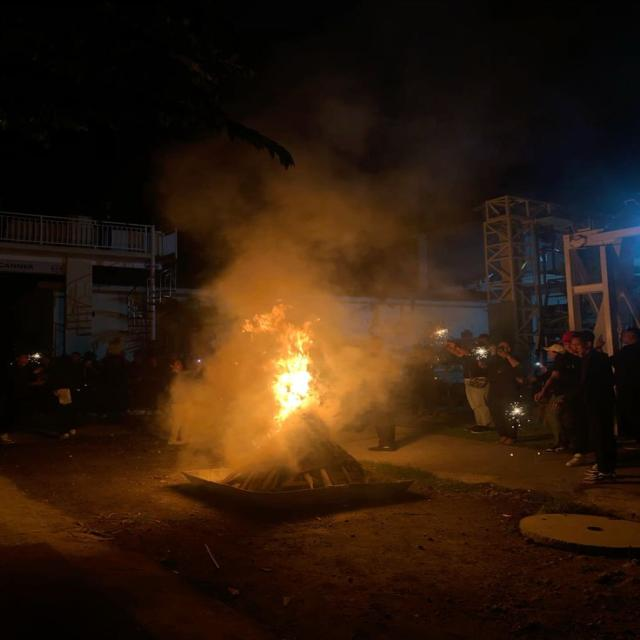fire: (243, 301, 317, 422)
